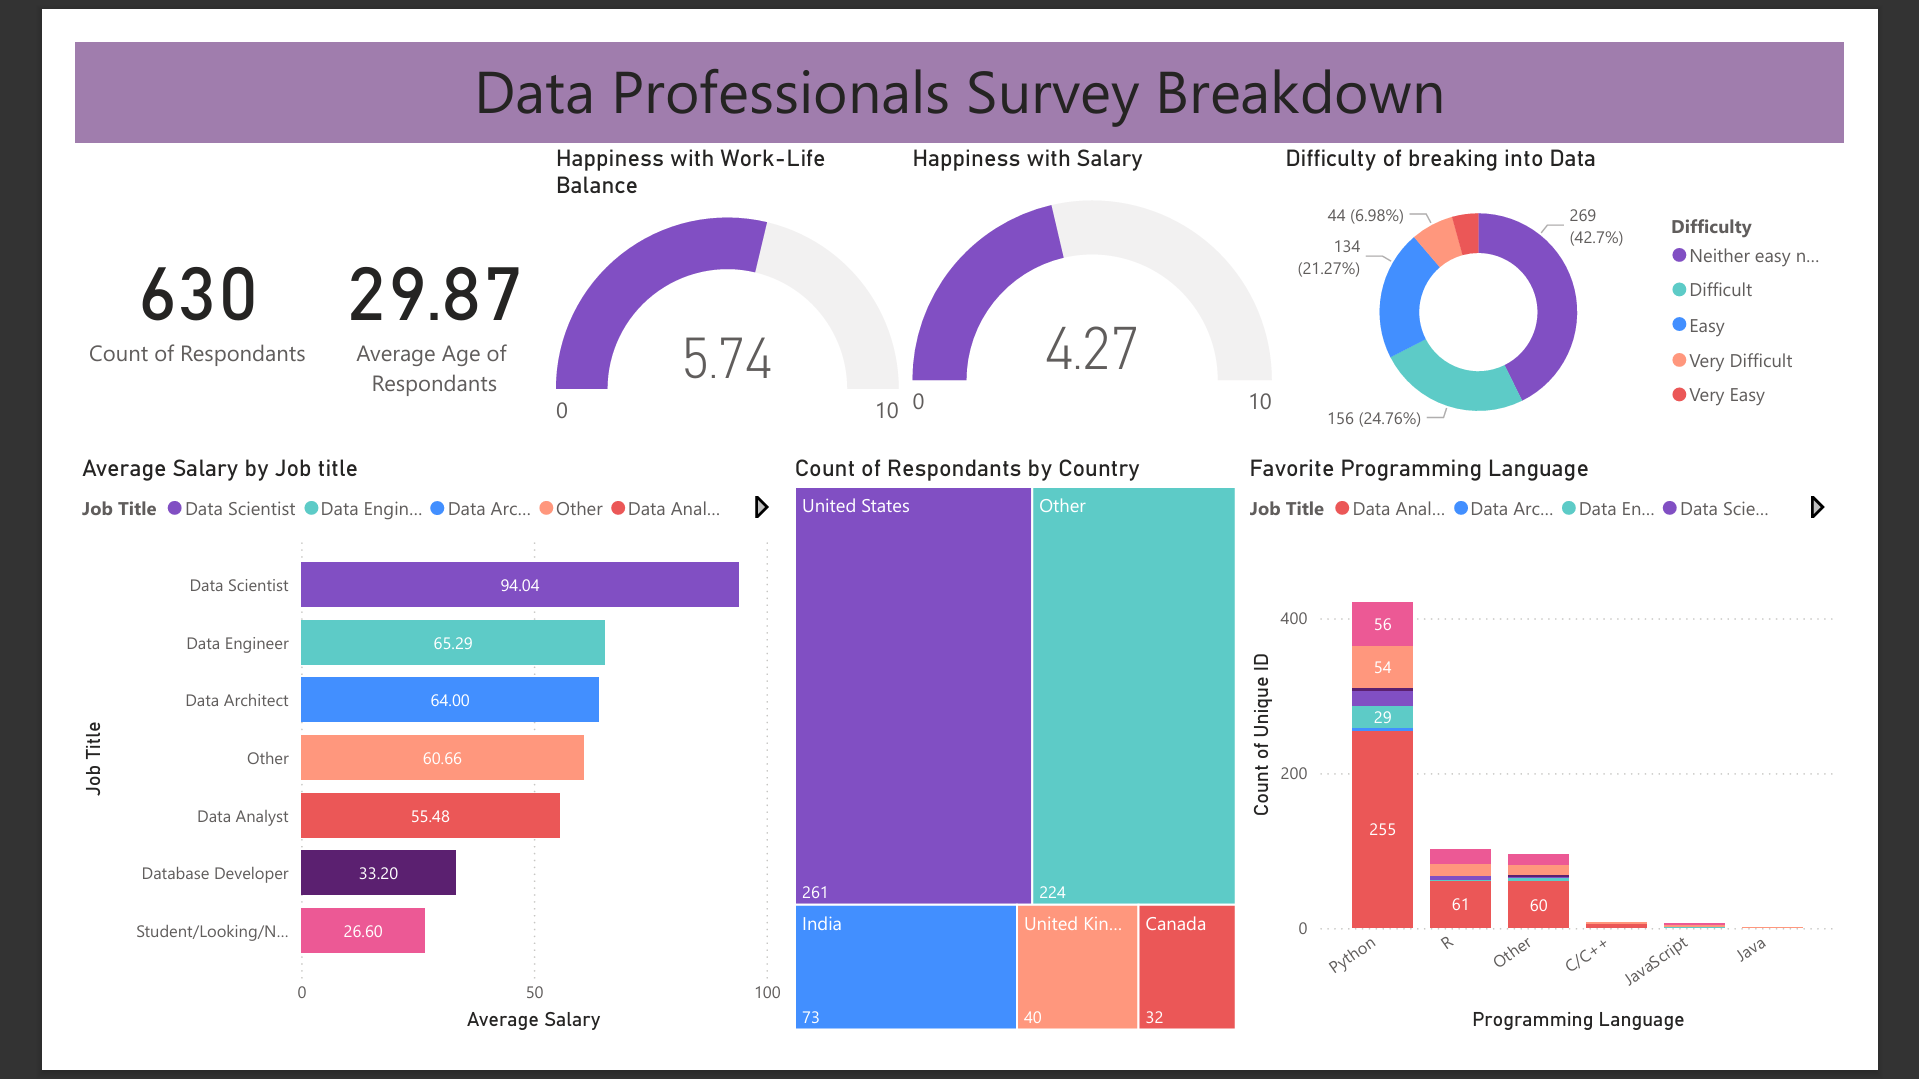

Layout of this report page (visuals, bound fields, positions):
{"tool":"powerbi","page":{"name":"Page 1","canvas":[1280,720],"ordinal":0},"visuals":[{"type":"textbox","box":[0,0,1280.3,73.4],"z":0},{"type":"card","fields":{"Values":["CountNonNull(Data Professional Survey.Unique ID)"]},"box":[0,73.9,177.3,224.4],"z":1000},{"type":"card","fields":{"Values":["Avg(Data Professional Survey.Q10 - Current Age)"]},"box":[177.3,73.9,165.2,224.4],"z":2000},{"type":"barChart","title":"Average Salary by Job title","fields":{"Category":["Data Professional Survey.Q1 - Which Title Best Fits your Current Role?.1"],"Series":["Data Professional Survey.Q1 - Which Title Best Fits your Current Role?.1"],"Y":["Avg(Data Professional Survey.Average Salary)"]},"box":[0,298.2,515.9,421.8],"z":3000},{"type":"treemap","fields":{"Group":["Data Professional Survey.Q11 - Which Country do you live in?.1"],"Values":["CountNonNull(Data Professional Survey.Unique ID)"]},"box":[515.9,298.2,329.1,421.8],"z":4000},{"type":"columnChart","title":"Favorite Programming Language","fields":{"Category":["Data Professional Survey.Q5 - Favorite Programming Language.1"],"Y":["Count(Data Professional Survey.Unique ID)"],"Series":["Data Professional Survey.Q1 - Which Title Best Fits your Current Role?.1"]},"box":[845,298.2,435.3,421.8],"z":5000},{"type":"gauge","title":"Happiness with Work-Life Balance","fields":{"Y":["Avg(Data Professional Survey.Q6 - How Happy are you in your Current Position with the following? (Work/Life Balance))"],"MinValue":["Min(Data Professional Survey.Q6 - How Happy are you in your Current Position with the following? (Work/Life Balance))"],"MaxValue":["Max(Data Professional Survey.Q6 - How Happy are you in your Current Position with the following? (Work/Life Balance))"]},"box":[342.6,73.9,257.9,224.4],"z":6000},{"type":"gauge","title":"Happiness with Salary","fields":{"Y":["Avg(Data Professional Survey.Q6 - How Happy are you in your Current Position with the following? (Salary))"],"MinValue":["Min(Data Professional Survey.Q6 - How Happy are you in your Current Position with the following? (Salary))"],"MaxValue":["Max(Data Professional Survey.Q6 - How Happy are you in your Current Position with the following? (Salary))"]},"box":[600.5,73.9,270,224.4],"z":7000},{"type":"donutChart","title":"Difficulty of breaking into Data","fields":{"Category":["Data Professional Survey.Q7 - How difficult was it for you to break into Data?"],"Y":["CountNonNull(Data Professional Survey.Unique ID)"]},"box":[870.5,73.9,409.7,224.4],"z":8000}]}

Visuals, with their boxes in screenshot pixels (x1, y1, x2, y2), scaled from the page's 1280x720 canvas onto the 1919x1079 screenshot:
textbox: [0,0,1918,110]
card - CountNonNull(Data Professional Survey.Unique ID): [0,111,266,447]
card - Avg(Data Professional Survey.Q10 - Current Age): [266,111,513,447]
"Average Salary by Job title" barChart: [0,447,773,1078]
treemap - Data Professional Survey.Q11 - Which Country do you live in?.1 x CountNonNull(Data Professional Survey.Unique ID): [773,447,1267,1078]
"Favorite Programming Language" columnChart: [1267,447,1918,1078]
"Happiness with Work-Life Balance" gauge: [514,111,900,447]
"Happiness with Salary" gauge: [900,111,1305,447]
"Difficulty of breaking into Data" donutChart: [1305,111,1918,447]
